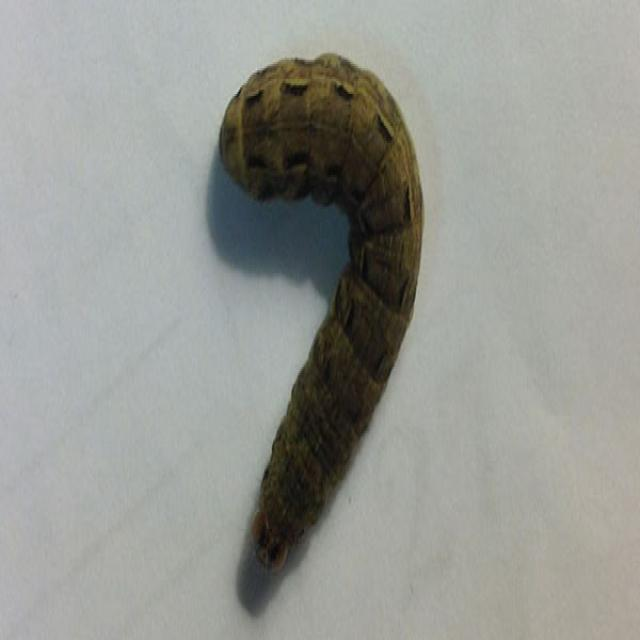worm: (219, 50, 426, 575)
